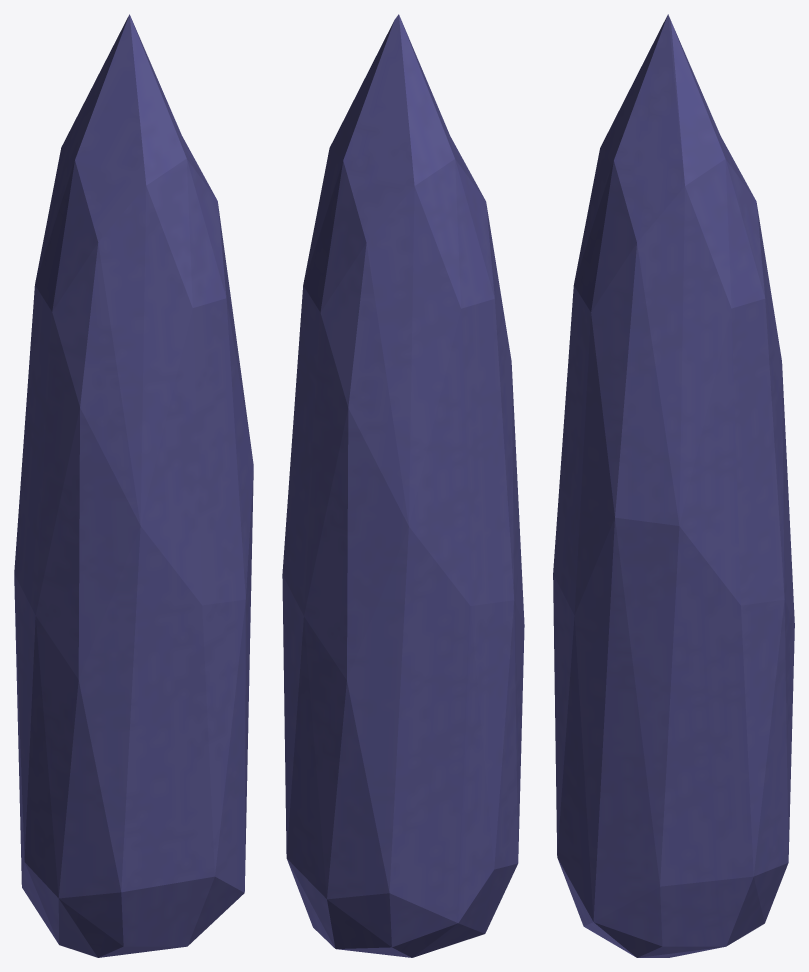
Rendered from icicle (2).fbx.
3 views of the same model, side by side, from view 1: azimuth 30°, elevation 25°; view 2: azimuth 150°, elevation 25°; view 3: azimuth 270°, elevation 25° (orthographic).
Visible parts, largest first — view 1: Icicle; view 2: Icicle; view 3: Icicle.
Part boxes in pixels (<box>): Icicle: <box>14,14,253,957</box>; Icicle: <box>282,14,524,957</box>; Icicle: <box>553,14,794,957</box>.
Bounding box in the file's own units: 75.28 × 328 × 76.52.
2 materials, 2 textured.
